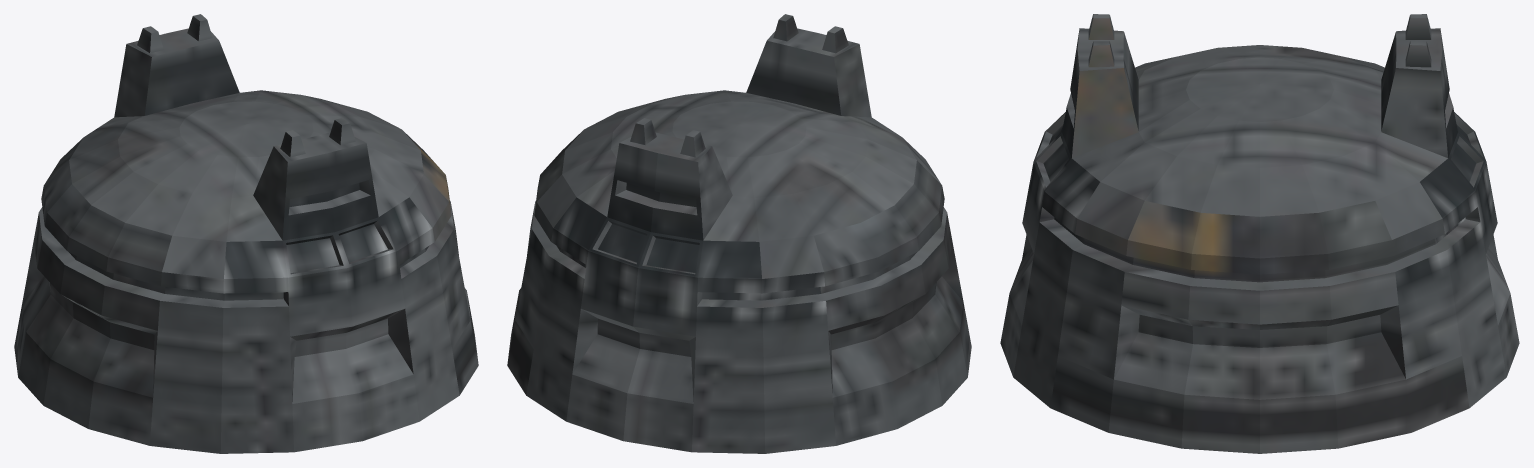
Rendered from Peca2.fbx.
The picture shows the model from 3 angles, left to right: view 1: azimuth 30°, elevation 25°; view 2: azimuth 150°, elevation 25°; view 3: azimuth 270°, elevation 25°; orthographic projection. The views are drawn at different scales.
Visible parts, largest first — view 1: polySurface77; view 2: polySurface77; view 3: polySurface77.
Boxes of the visible parts, x1,y1,x2,y2 form: polySurface77: (14, 14, 478, 453); polySurface77: (507, 14, 971, 453); polySurface77: (1000, 14, 1519, 453).
Bounding box in the file's own units: 4.74 × 3.13 × 4.7.
